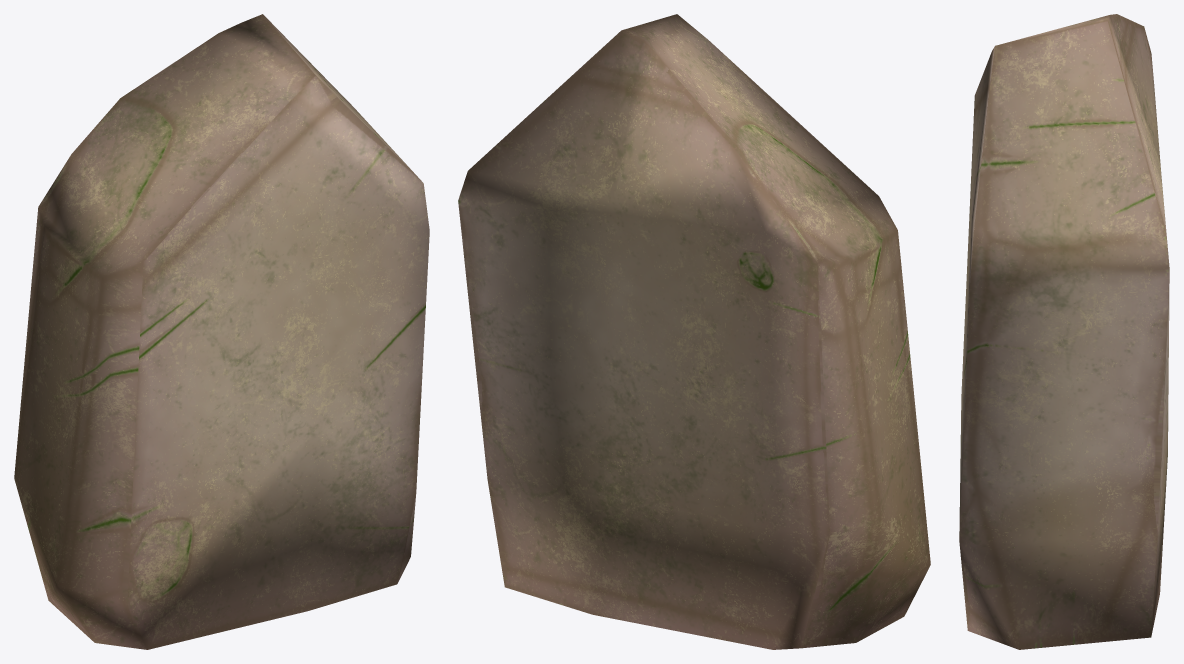
The model's file is Rune02_low_03.fbx.
3 renders of one model, left to right at view 1: azimuth 30°, elevation 25°; view 2: azimuth 150°, elevation 25°; view 3: azimuth 270°, elevation 25°, orthographic. The views are drawn at different scales.
Parts seen in each view (by area): view 1: Rune02_low_03; view 2: Rune02_low_03; view 3: Rune02_low_03.
Boxes of the visible parts, x1,y1,x2,y2 form: Rune02_low_03: (14, 14, 429, 649); Rune02_low_03: (458, 14, 930, 649); Rune02_low_03: (959, 14, 1169, 649).
Size of the model in its own units: 1.78 by 2.47 by 0.8136.
Materials: 1 (1 with a texture image).
